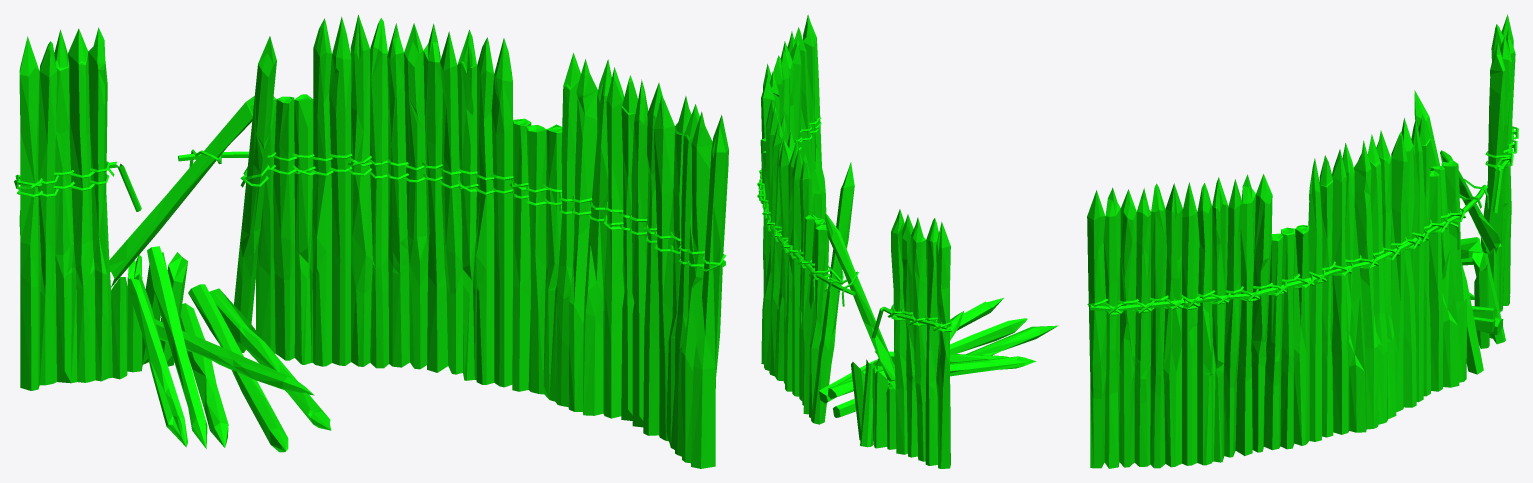
File: SM_Palisade_Corner_Round_9x9_Window_Concave_A_Broken.fbx
The picture shows the model from 3 angles, left to right: view 1: azimuth 30°, elevation 25°; view 2: azimuth 150°, elevation 25°; view 3: azimuth 270°, elevation 25°; orthographic projection. The views are drawn at different scales.
Parts seen in each view (by area): view 1: palisade-corner-round-9x9-window-concave-a-broken; view 2: palisade-corner-round-9x9-window-concave-a-broken; view 3: palisade-corner-round-9x9-window-concave-a-broken.
Boxes of the visible parts, x1,y1,x2,y2 form: palisade-corner-round-9x9-window-concave-a-broken: (14, 14, 728, 468); palisade-corner-round-9x9-window-concave-a-broken: (757, 14, 1058, 468); palisade-corner-round-9x9-window-concave-a-broken: (1087, 14, 1518, 468).
Size of the model in its own units: 9.44 by 6.87 by 9.39.
